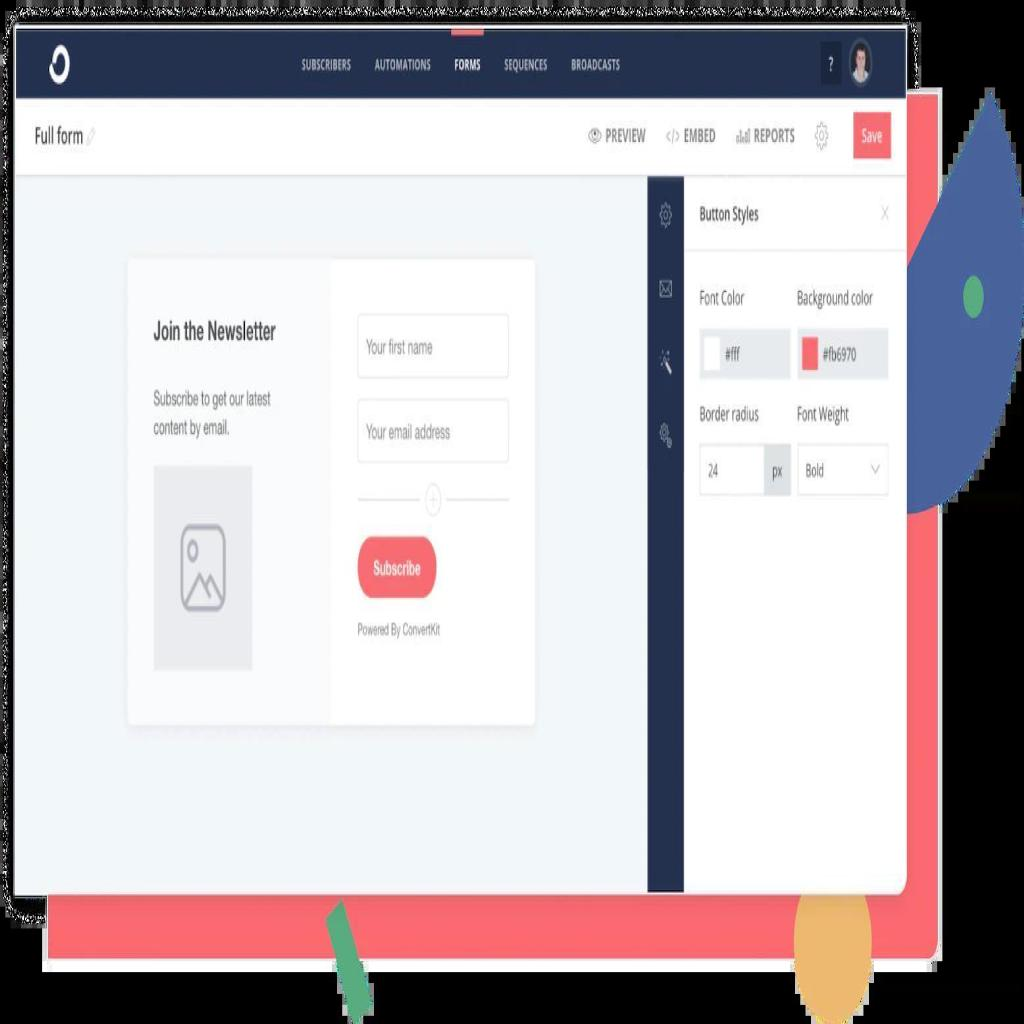button: (356, 536, 438, 600), (853, 110, 891, 158)
dropdown: (798, 441, 888, 496)
icon: (823, 42, 841, 85), (424, 484, 442, 518), (814, 118, 830, 156), (657, 273, 676, 305), (657, 420, 673, 458), (658, 196, 675, 230), (657, 351, 675, 382), (734, 126, 752, 150), (588, 126, 604, 150), (665, 124, 681, 146), (879, 202, 890, 224)
input: (358, 398, 509, 462), (357, 316, 509, 378), (699, 442, 763, 494)
label: (798, 287, 872, 307), (796, 402, 852, 428), (700, 288, 745, 310), (753, 123, 794, 147), (604, 126, 646, 146), (684, 124, 719, 146)
